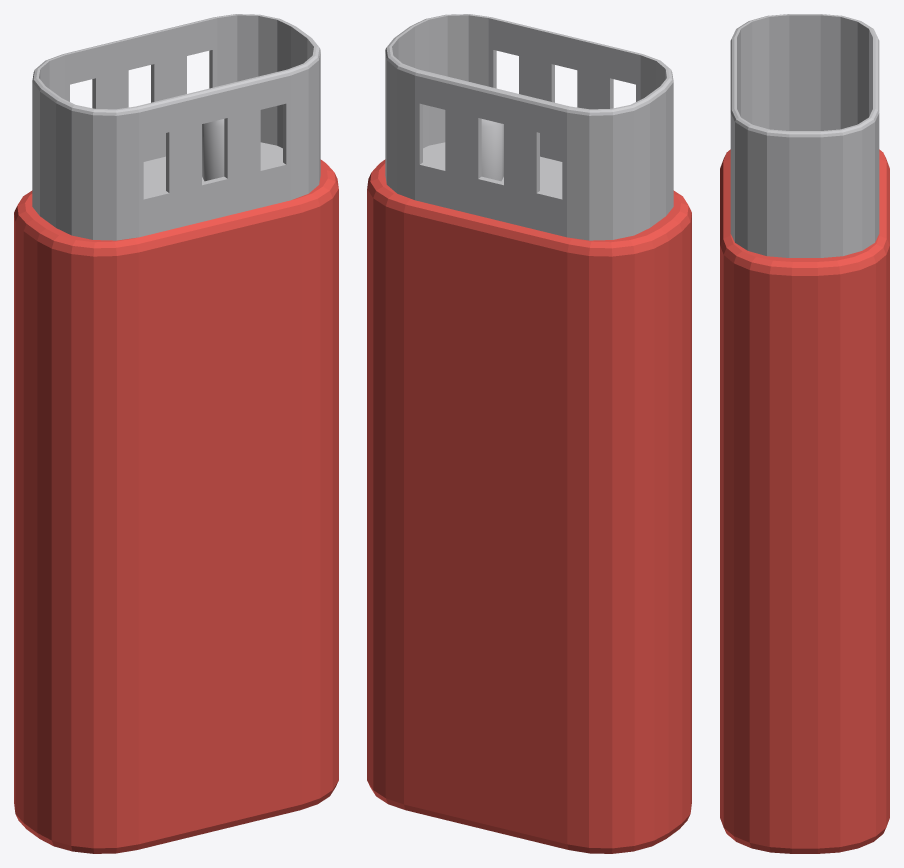
The model's file is SM_Lighter.fbx.
3 renders of one model, left to right at view 1: azimuth 30°, elevation 25°; view 2: azimuth 150°, elevation 25°; view 3: azimuth 270°, elevation 25°, orthographic. The views are drawn at different scales.
Parts seen in each view (by area): view 1: SM_Lighter; view 2: SM_Lighter; view 3: SM_Lighter.
Part boxes in pixels (x1=…): SM_Lighter: x1=14, y1=14, x2=338, y2=853; SM_Lighter: x1=367, y1=14, x2=691, y2=853; SM_Lighter: x1=720, y1=14, x2=889, y2=853.
Size of what is drawn, in the model's own units: 2.5 by 1.3 by 6.05.
